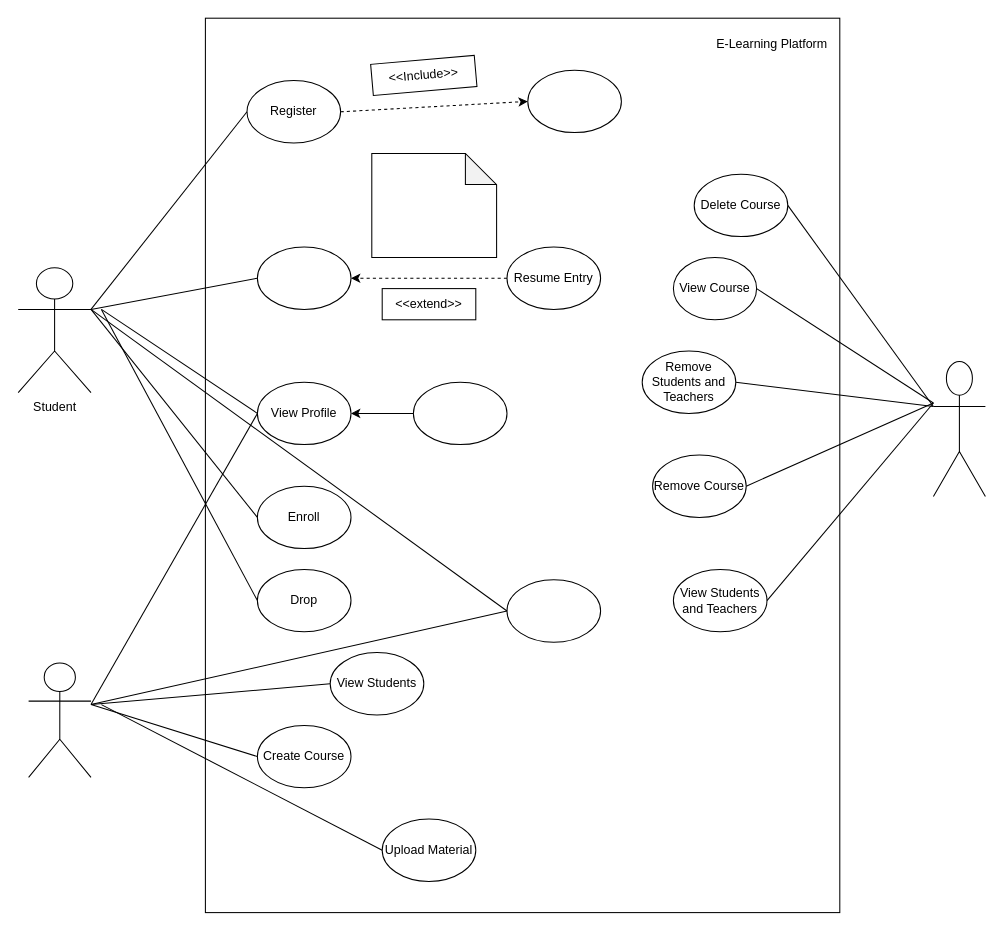
This 1004x931 diagram has some shape labels left out. Here are the shapes that lost their labels. From the top down, the centre of each, then its label:
At point (574, 101): "Verify Teacher".
At point (434, 204): "Email, Password has been entered incorrectly".
At point (303, 277): "Login".
At point (459, 413): "Edit Profile".
At point (958, 428): "Admin".
At point (553, 610): "View Material".
At point (59, 719): "Teacher".
